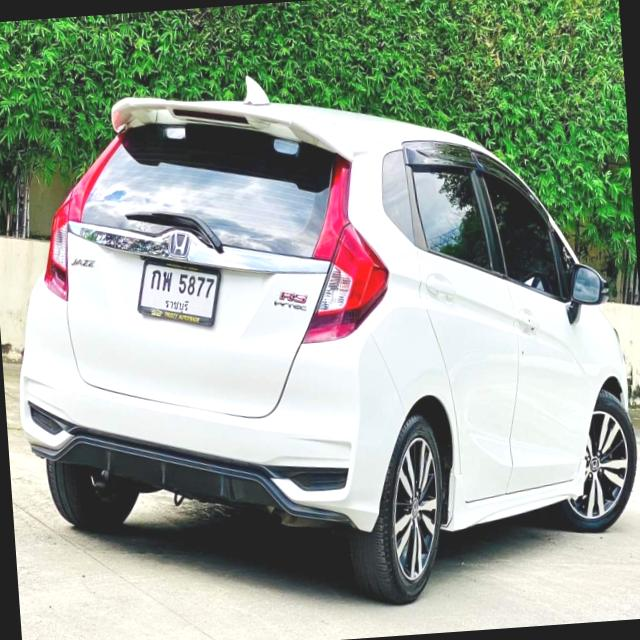license_plate: (132, 248, 225, 334)
